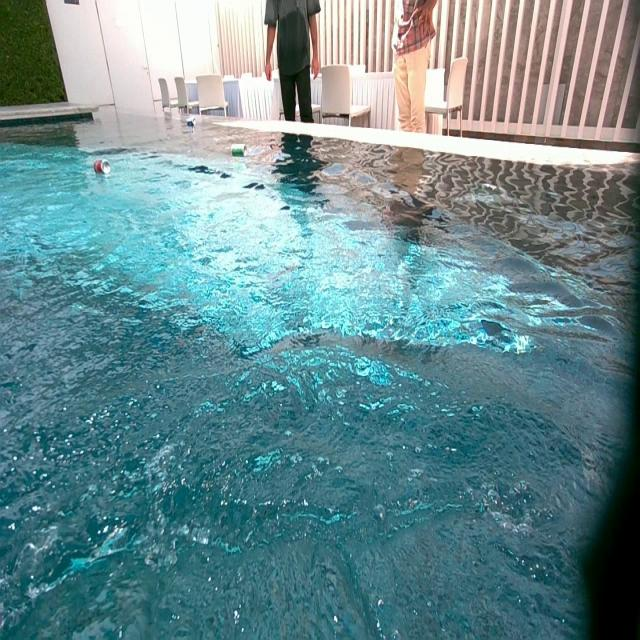Cans: (95, 160, 110, 177), (232, 144, 248, 158), (186, 118, 194, 126)
